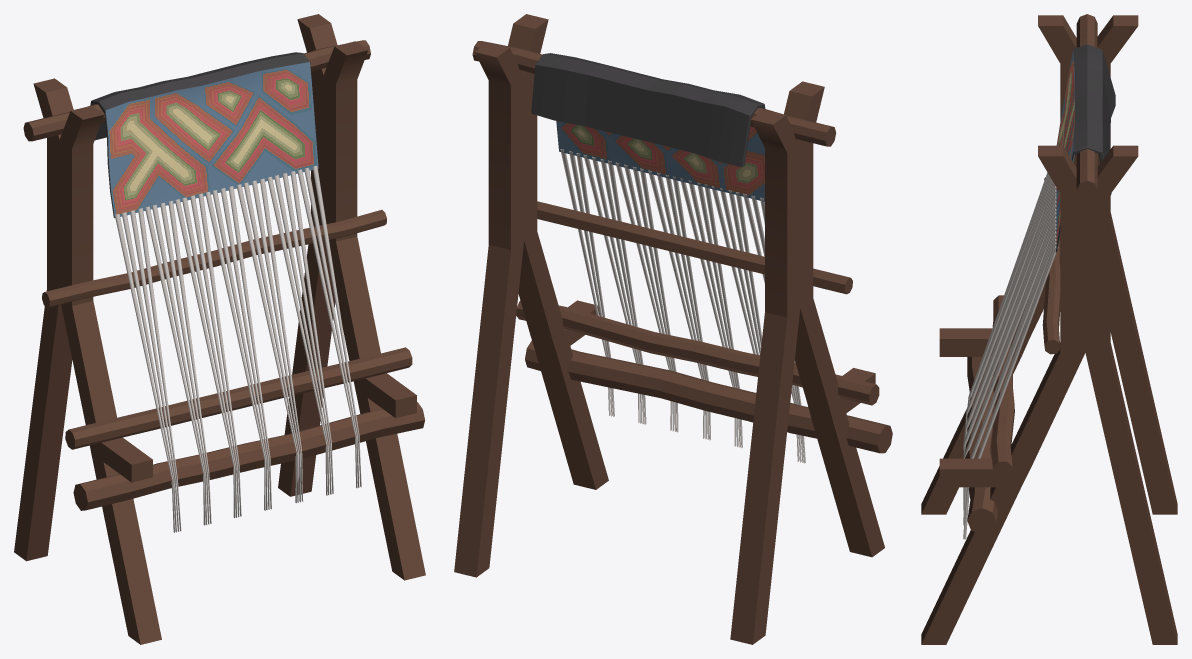
File: atoll_loom.fbx
3 views of the same model, side by side, from view 1: azimuth 30°, elevation 25°; view 2: azimuth 150°, elevation 25°; view 3: azimuth 270°, elevation 25° (orthographic). The views are drawn at different scales.
Visible parts, largest first — view 1: atoll_loom; view 2: atoll_loom; view 3: atoll_loom.
Part boxes in pixels (box(x1,y1,x2,y2)): atoll_loom: box(14, 14, 425, 644); atoll_loom: box(454, 14, 892, 644); atoll_loom: box(921, 14, 1177, 644).
Size of the model in its own units: 275 by 376 by 179.
